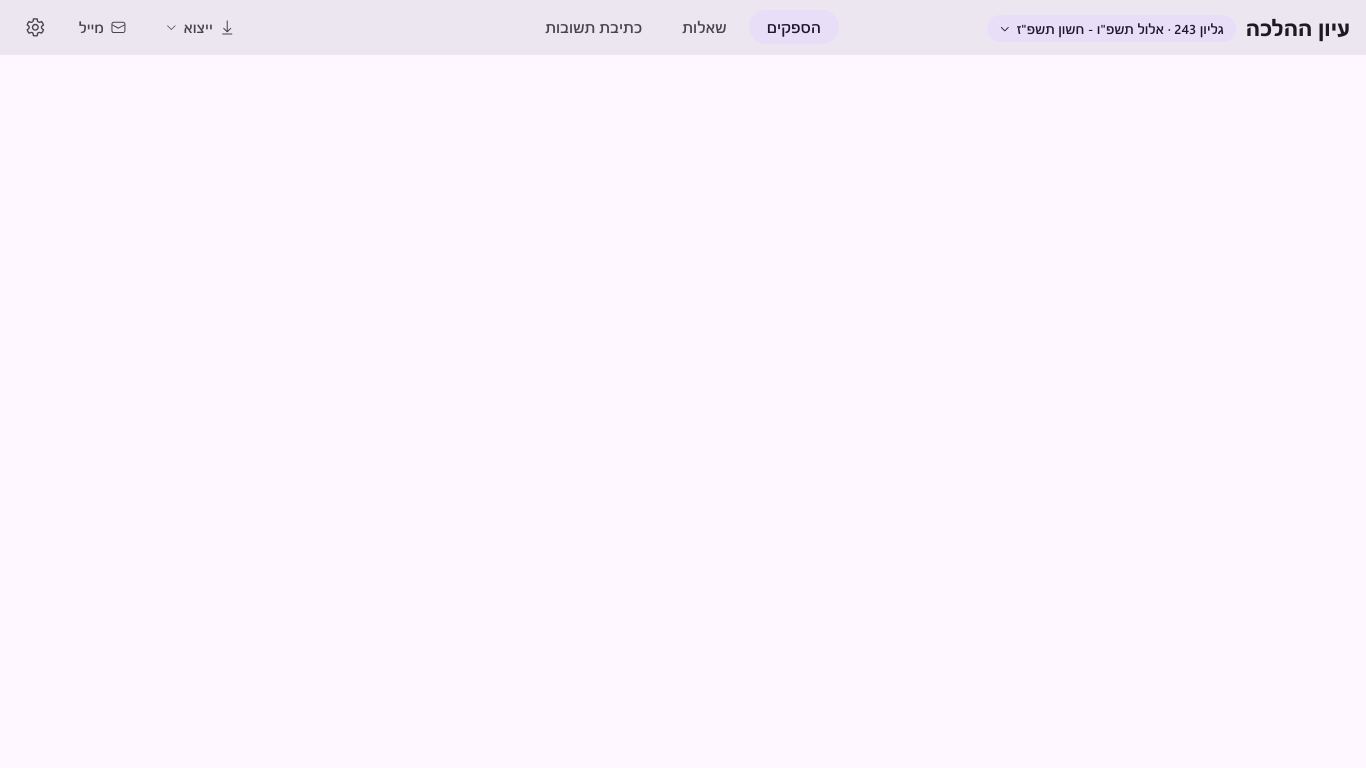
Test case: TopBar — ייצוא ל-Word › מייצא קובץ DOCX לשבוע הפעיל ומציג הודעה
Click the button titled "ייצוא ל-Word" at (200,27), box [151,11,250,44]
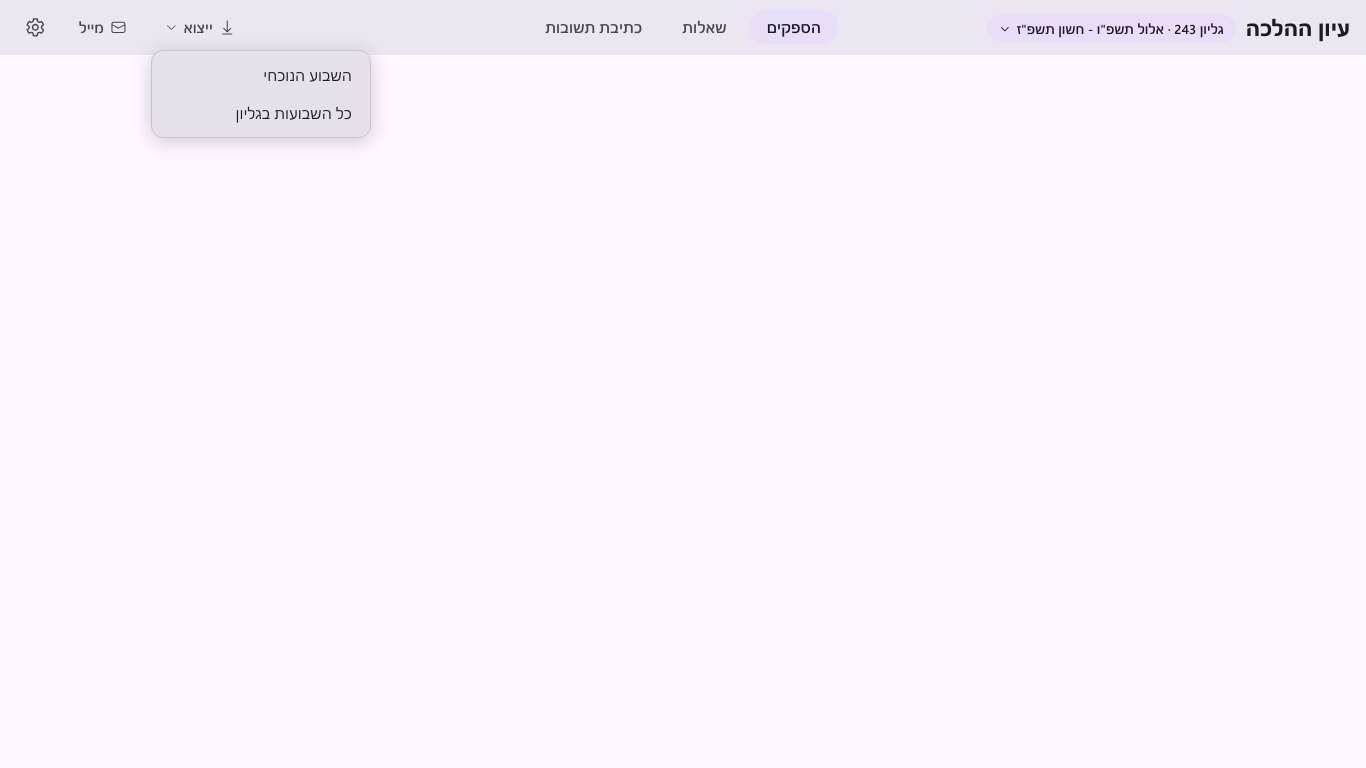
Click the menu item "השבוע הנוכחי" at (261,75), box [158,57,364,93]
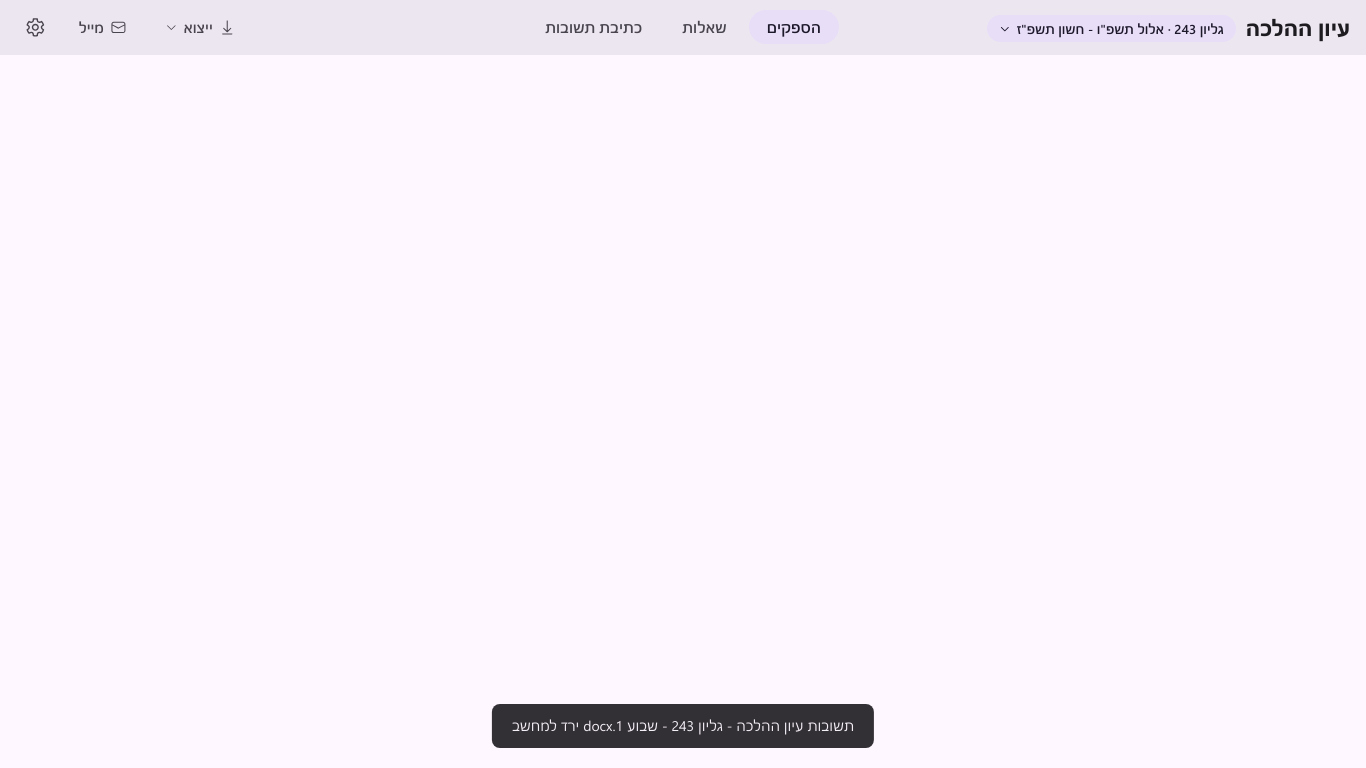
Result: the message shows "ירד למחשב" at [512,716,854,734]
